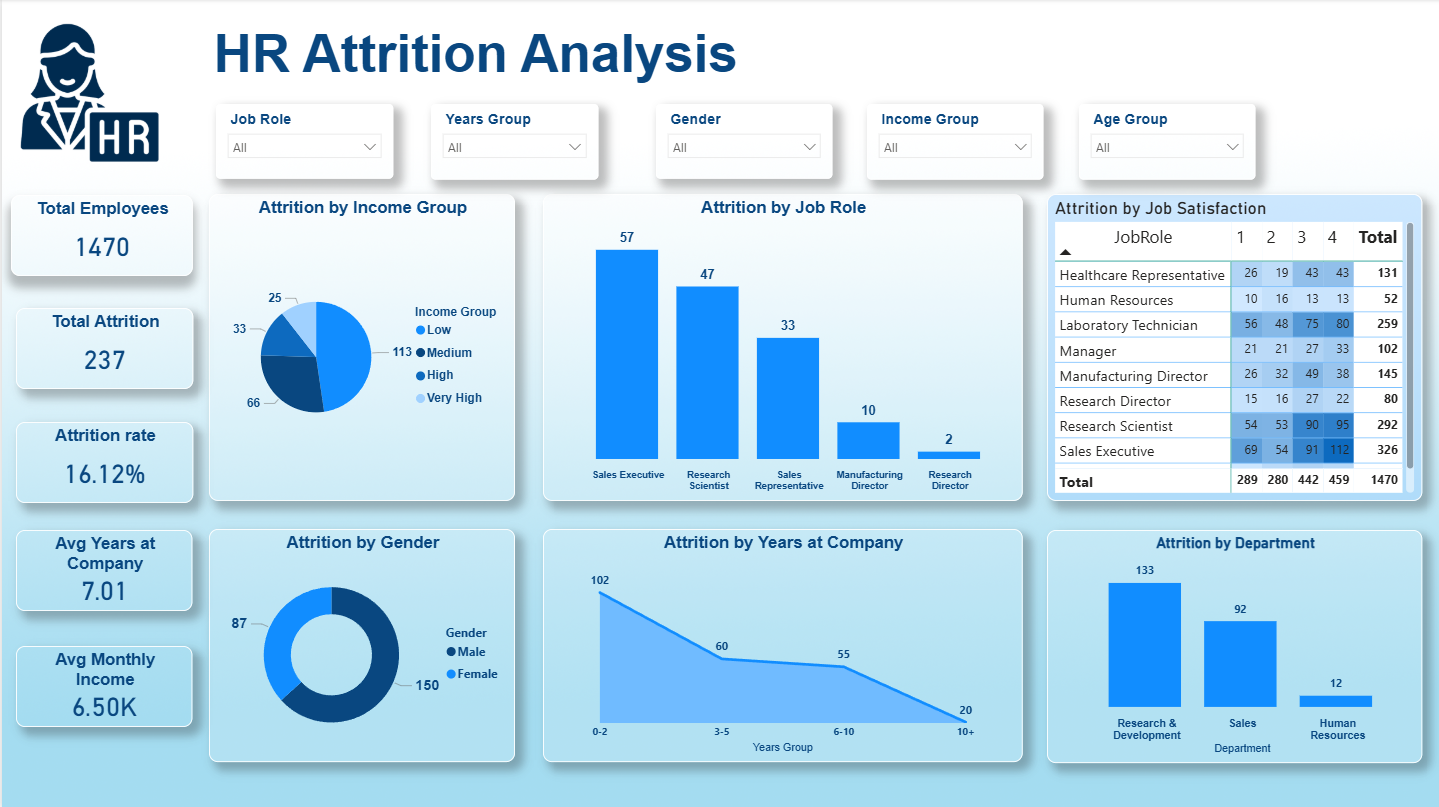

Layout of this report page (visuals, bound fields, positions):
{"tool":"powerbi","page":{"name":"Home","canvas":[1600,900],"ordinal":0},"visuals":[{"type":"pieChart","title":"Attrition by Income Group","fields":{"Category":["HR-Employee-Attrition.Income Group"],"Y":["Measures_.Total Attrition"]},"box":[229.8,216,340,341.4],"z":0},{"type":"donutChart","title":"Attrition by Gender","fields":{"Category":["HR-Employee-Attrition.Gender"],"Y":["Measures_.Total Attrition"]},"box":[229.8,588,340,258.6],"z":1000},{"type":"clusteredColumnChart","title":"Attrition by Job Role","fields":{"Category":["HR-Employee-Attrition.JobRole"],"Y":["Measures_.Total Attrition"]},"box":[601.2,216,532.9,341.4],"z":2000},{"type":"areaChart","title":"Attrition by Years at Company","fields":{"Category":["HR-Employee-Attrition.Years Group"],"Y":["Measures_.Total Attrition"]},"box":[601.2,588,532.9,258.6],"z":3000},{"type":"pivotTable","title":"Attrition by Job Satisfaction ","fields":{"Columns":["HR-Employee-Attrition.JobSatisfaction"],"Rows":["HR-Employee-Attrition.JobRole"],"Values":["Measures_.Total Employees"]},"box":[1161.2,216,417.1,341.4],"z":4000},{"type":"clusteredColumnChart","title":"Attrition by Department","fields":{"Category":["HR-Employee-Attrition.Department"],"Y":["Measures_.Total Attrition"]},"box":[1161,588.6,417.1,258.6],"z":5000},{"type":"slicer","fields":{"Values":["HR-Employee-Attrition.Years Group"]},"box":[477.1,115,185.7,83.6],"z":6000},{"type":"slicer","fields":{"Values":["HR-Employee-Attrition.Income Group"]},"box":[961.4,115,196.4,84.3],"z":7000},{"type":"slicer","fields":{"Values":["HR-Employee-Attrition.Age Group"]},"box":[1197.1,115,196.4,84.3],"z":8000},{"type":"slicer","fields":{"Values":["HR-Employee-Attrition.Gender"]},"box":[727.1,115.7,196.4,82.9],"z":9000},{"type":"slicer","fields":{"Values":["HR-Employee-Attrition.JobRole"]},"box":[237.8,115.6,196.7,83.3],"z":10000},{"type":"textbox","box":[230,21.2,847.5,107.5],"z":11000},{"type":"image","box":[14.3,21.4,165.7,164.3],"z":12000},{"type":"card","title":"Total Employees","fields":{"Values":["Measures_.Total Employees"]},"box":[10,216.7,201.7,90],"z":13000},{"type":"card","title":"Total Attrition","fields":{"Values":["Measures_.Total Attrition"]},"box":[15,341.7,196.7,90],"z":14000},{"type":"card","title":"Attrition rate","fields":{"Values":["Measures_.Attrition Rate %"]},"box":[15,468.3,196.7,90],"z":15000},{"type":"card","title":"Avg Years at Company","fields":{"Values":["Measures_.Avg Years at Company"]},"box":[15,588.8,196.2,90],"z":16000},{"type":"card","title":"Avg Monthly Income","fields":{"Values":["Measures_.Avg Monthly Income"]},"box":[15,717.5,196.2,90],"z":17000}]}

Visuals, with their boxes in screenshot pixels (x1, y1, x2, y2), scaled from the page's 1600x900 canvas onto the 1439x807 screenshot:
"Attrition by Income Group" pieChart: [x1=207, y1=194, x2=512, y2=500]
"Attrition by Gender" donutChart: [x1=207, y1=527, x2=512, y2=759]
"Attrition by Job Role" clusteredColumnChart: [x1=541, y1=194, x2=1020, y2=500]
"Attrition by Years at Company" areaChart: [x1=541, y1=527, x2=1020, y2=759]
"Attrition by Job Satisfaction " pivotTable: [x1=1044, y1=194, x2=1419, y2=500]
"Attrition by Department" clusteredColumnChart: [x1=1044, y1=528, x2=1419, y2=760]
slicer - HR-Employee-Attrition.Years Group: [x1=429, y1=103, x2=596, y2=178]
slicer - HR-Employee-Attrition.Income Group: [x1=865, y1=103, x2=1041, y2=179]
slicer - HR-Employee-Attrition.Age Group: [x1=1077, y1=103, x2=1253, y2=179]
slicer - HR-Employee-Attrition.Gender: [x1=654, y1=104, x2=831, y2=178]
slicer - HR-Employee-Attrition.JobRole: [x1=214, y1=104, x2=391, y2=178]
textbox: [x1=207, y1=19, x2=969, y2=115]
image: [x1=13, y1=19, x2=162, y2=167]
"Total Employees" card: [x1=9, y1=194, x2=190, y2=275]
"Total Attrition" card: [x1=13, y1=306, x2=190, y2=387]
"Attrition rate" card: [x1=13, y1=420, x2=190, y2=501]
"Avg Years at Company" card: [x1=13, y1=528, x2=190, y2=609]
"Avg Monthly Income" card: [x1=13, y1=643, x2=190, y2=724]
